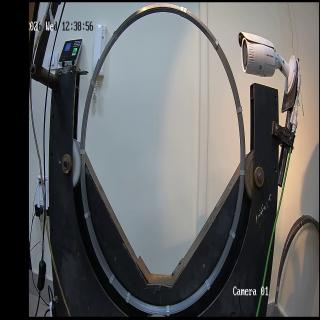clamp: (229, 228, 236, 240), (112, 29, 119, 41), (205, 278, 211, 291), (109, 272, 115, 285), (213, 39, 219, 51), (84, 210, 91, 220), (89, 78, 96, 88), (179, 5, 184, 18), (126, 291, 131, 304), (183, 7, 188, 19), (236, 106, 243, 114), (166, 305, 170, 316), (239, 169, 245, 176), (79, 149, 86, 155)
